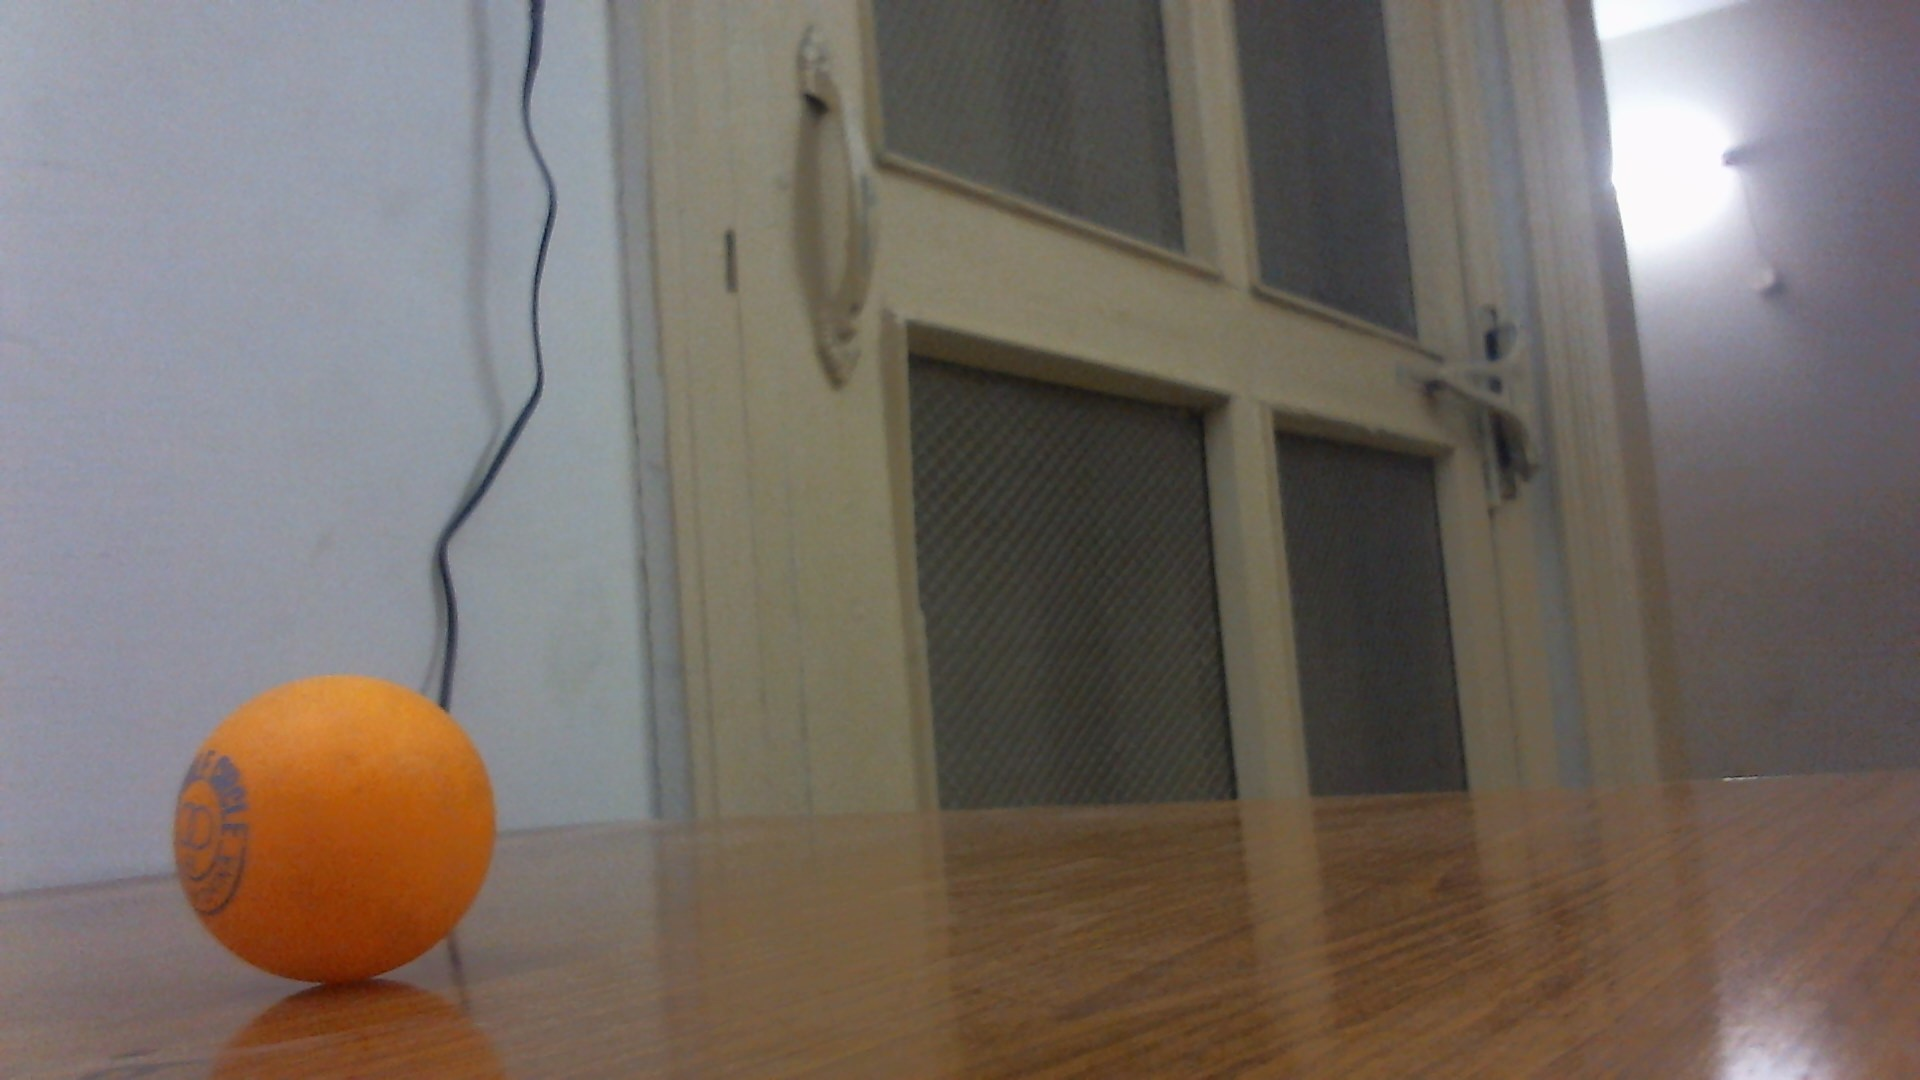ball: (173, 673, 497, 985)
